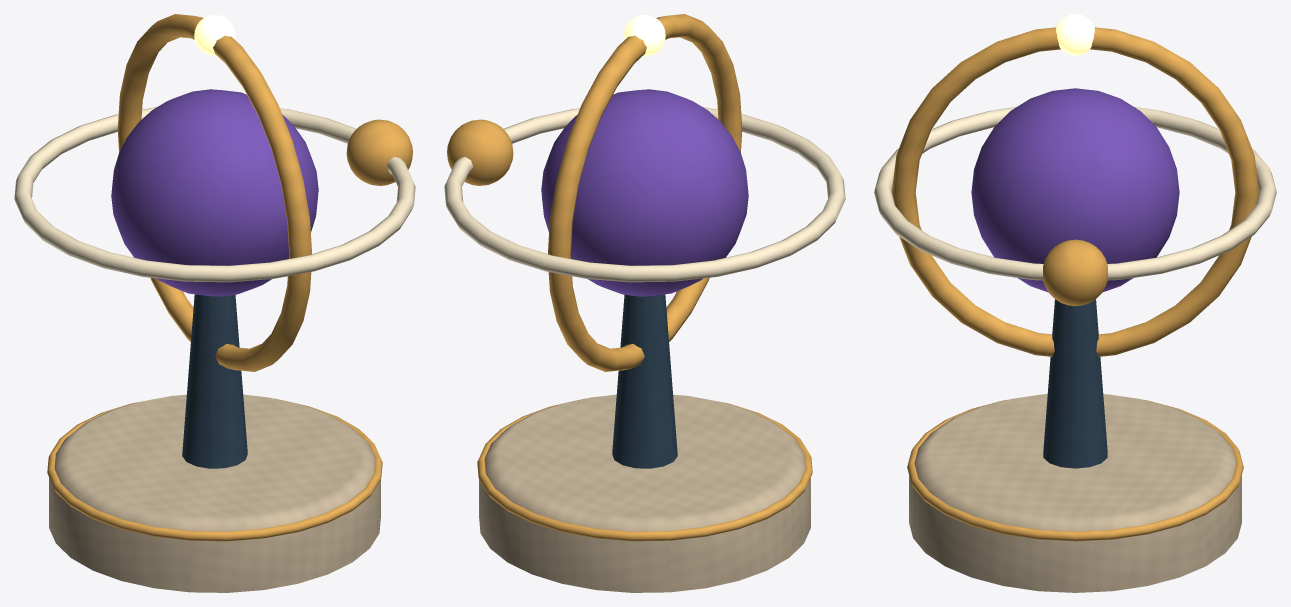
Rendered from galaxy_ringway.glb.
The picture shows the model from 3 angles, left to right: view 1: azimuth 30°, elevation 25°; view 2: azimuth 150°, elevation 25°; view 3: azimuth 270°, elevation 25°; orthographic projection.
Parts seen in each view (by area): view 1: galaxy_ringway_lod0; view 2: galaxy_ringway_lod0; view 3: galaxy_ringway_lod0.
Boxes of the visible parts, bbox=[...] form: galaxy_ringway_lod0: bbox=[14, 14, 415, 592]; galaxy_ringway_lod0: bbox=[444, 14, 845, 592]; galaxy_ringway_lod0: bbox=[874, 14, 1276, 592].
Size of what is drawn, in the model's own units: 8.17 by 10.74 by 7.74.
Materials: 6 (6 with a texture image).
